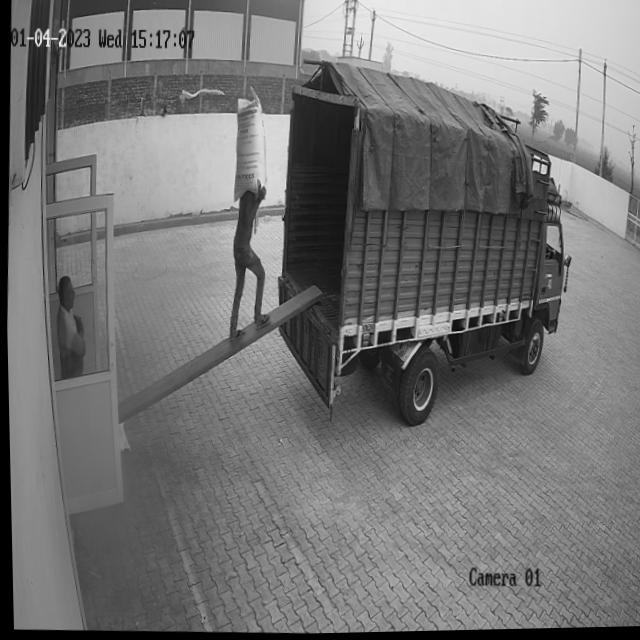sack: (230, 85, 269, 205)
